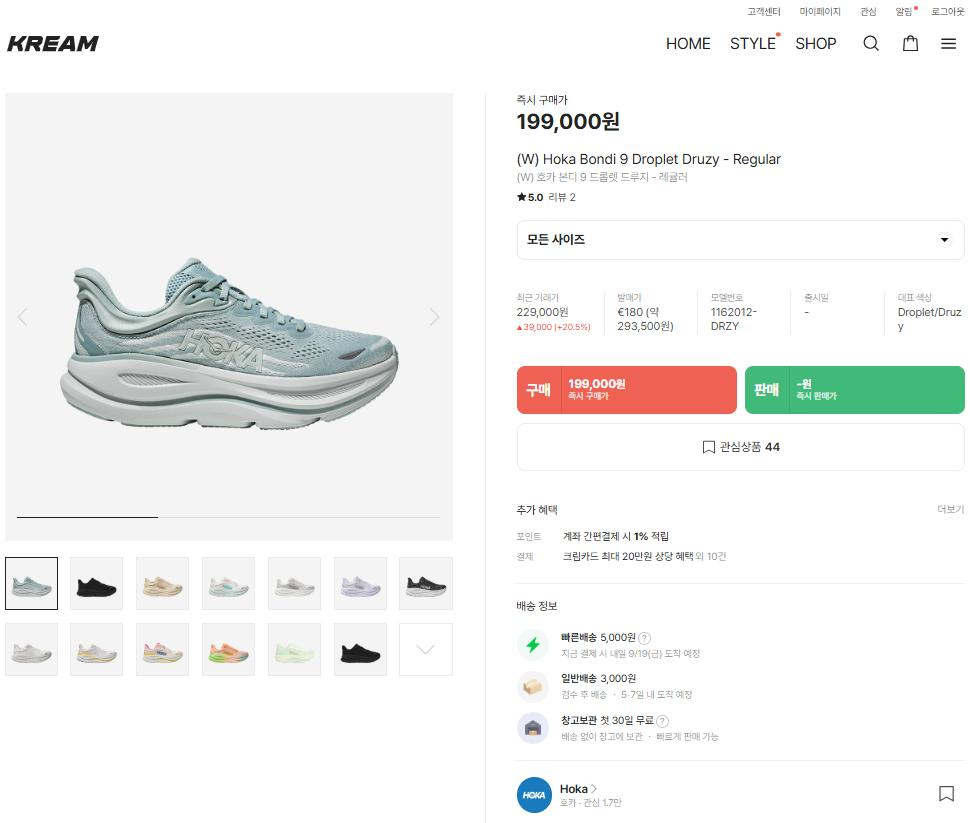button: (513, 426, 964, 471), (514, 367, 737, 413), (746, 366, 962, 412), (138, 552, 188, 608), (73, 554, 123, 609), (6, 556, 57, 608), (337, 556, 389, 607), (332, 624, 386, 673), (203, 557, 254, 607), (404, 624, 451, 678), (269, 628, 320, 677), (1, 628, 57, 672), (401, 558, 451, 607), (74, 626, 122, 676), (268, 559, 318, 604), (203, 627, 253, 672), (139, 623, 183, 670), (653, 39, 717, 52), (926, 779, 962, 802), (732, 37, 778, 52), (794, 36, 838, 51), (741, 1, 791, 13), (932, 0, 967, 16), (560, 781, 602, 794), (856, 37, 884, 54), (796, 10, 848, 19), (898, 1, 924, 18), (933, 504, 962, 517), (900, 38, 922, 54), (936, 33, 954, 52), (861, 8, 883, 17)
checkbox: (520, 220, 960, 260)
